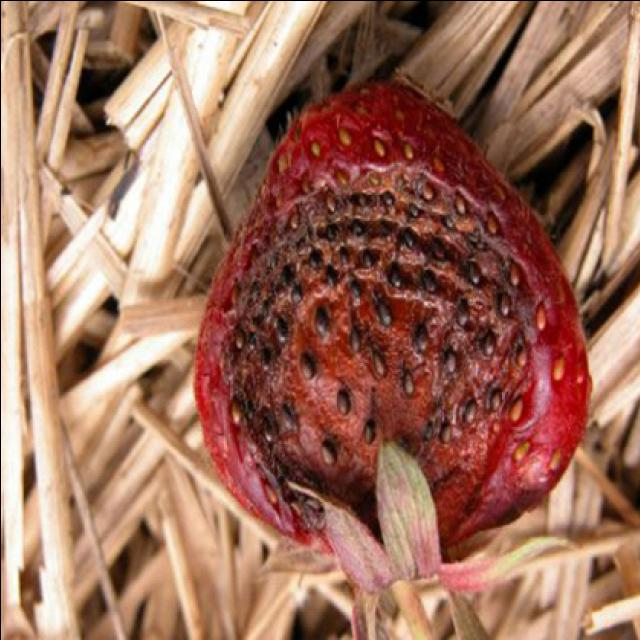Anthracnose Fruit Rot: (262, 185, 493, 483)
